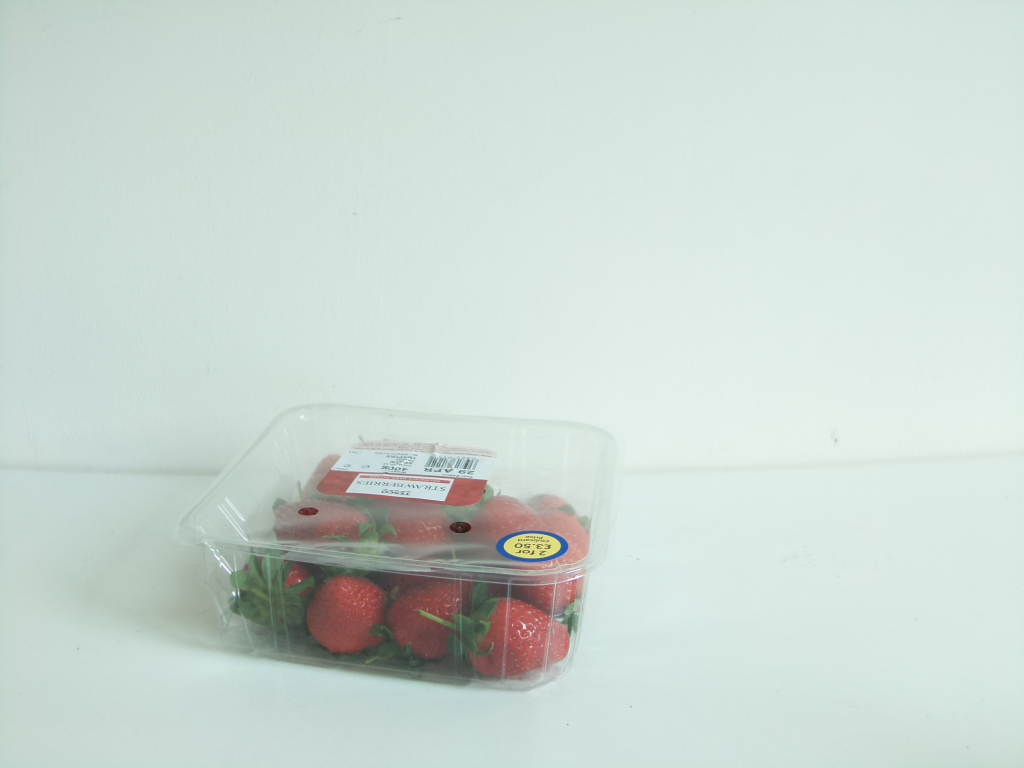soft-fruit: (156, 398, 617, 694)
